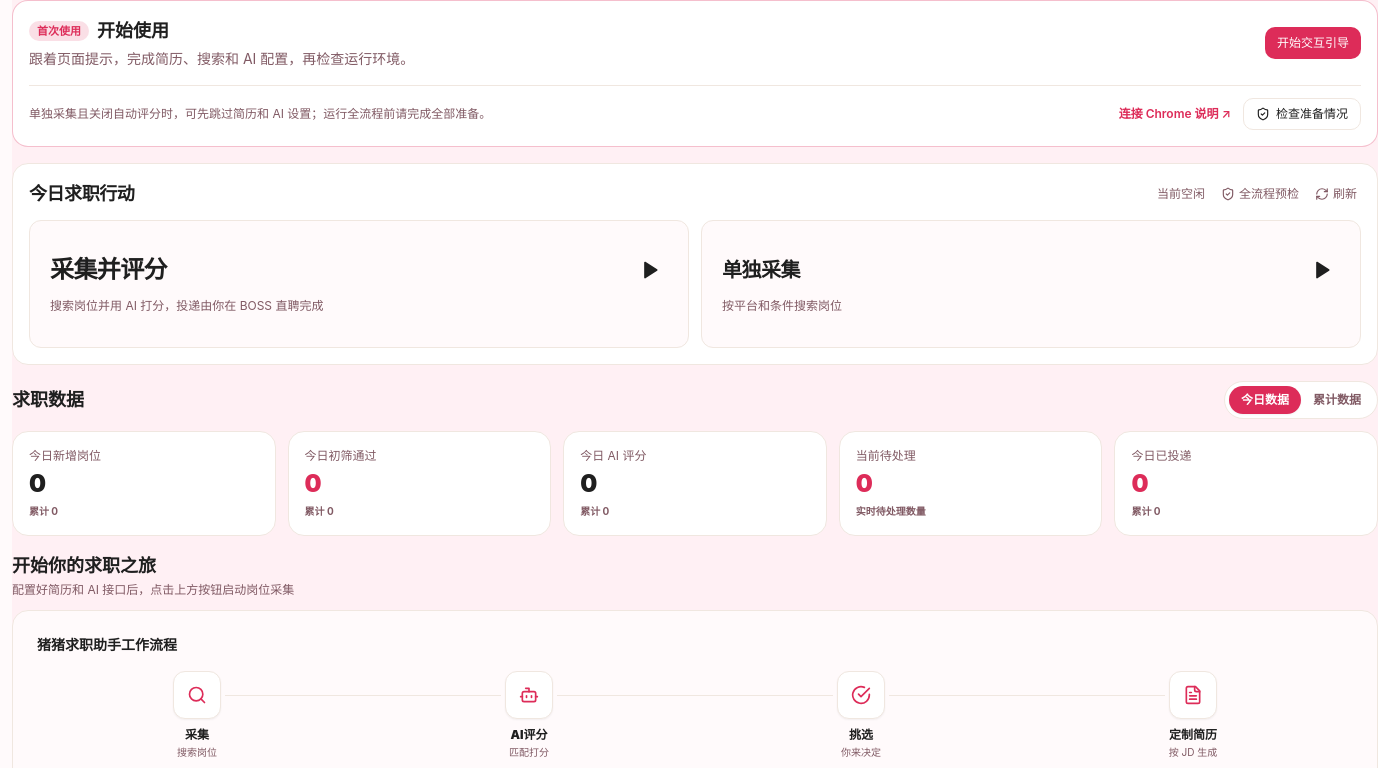
Test: DashboardPage workbench task panel › shows setup check failures next to the getting started steps
Click the button "检查准备情况": (1302, 114) [1243,98,1361,130]
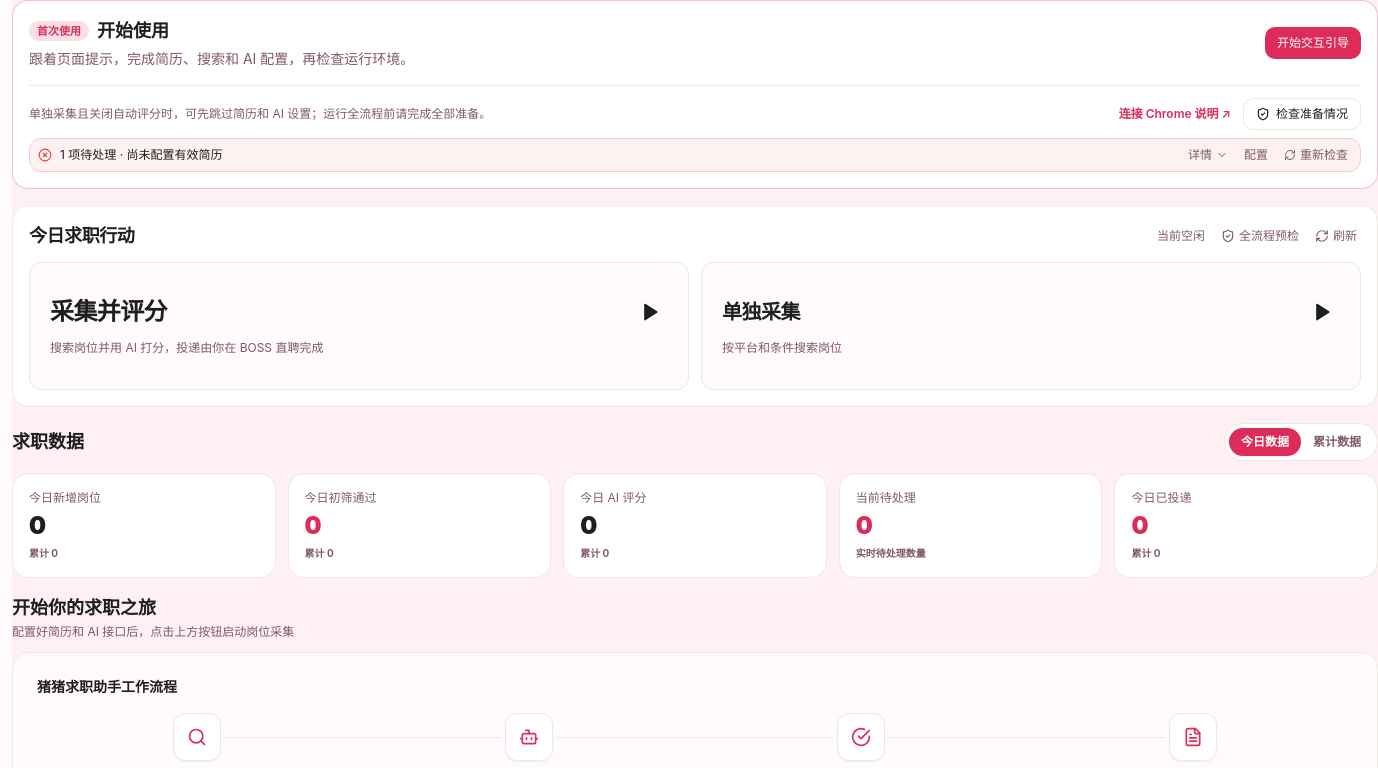
Expected: the message shows "尚未配置有效简历", [60,147,222,162]
